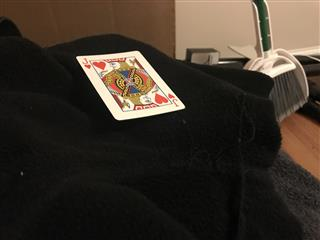JackOfHearts: (75, 49, 185, 120)
